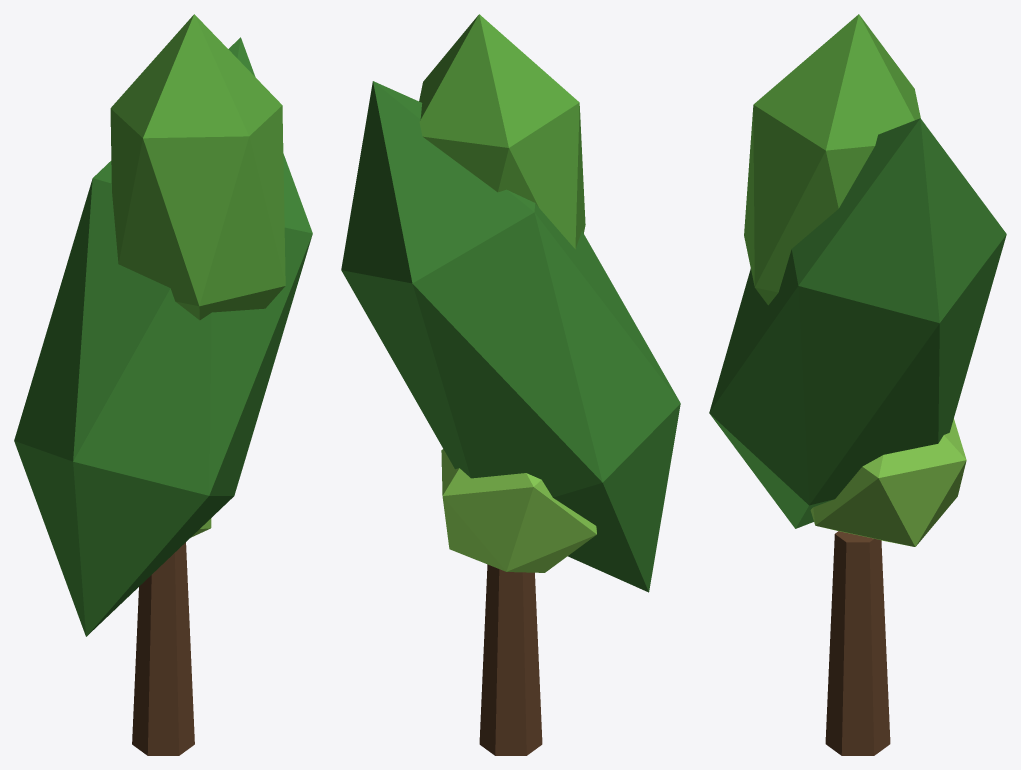
File: TreePoplar.glb
3 renders of one model, left to right at view 1: azimuth 30°, elevation 25°; view 2: azimuth 150°, elevation 25°; view 3: azimuth 270°, elevation 25°, orthographic. The views are drawn at different scales.
Visible parts, largest first — view 1: TreePoplar; view 2: TreePoplar; view 3: TreePoplar.
Part boxes in pixels (x1,y1,x2,y2): TreePoplar: (14,14,312,755); TreePoplar: (341,14,680,755); TreePoplar: (709,14,1006,755).
Bounding box in the file's own units: 1.34 × 3.55 × 1.28.
